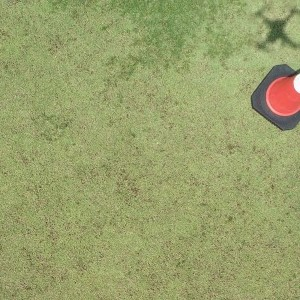traffic cone: (251, 63, 300, 131)
